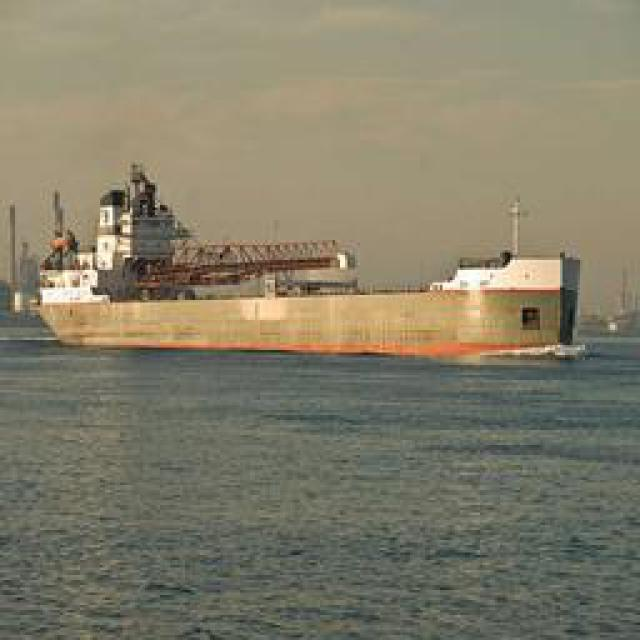Ship: (39, 255, 592, 368)
